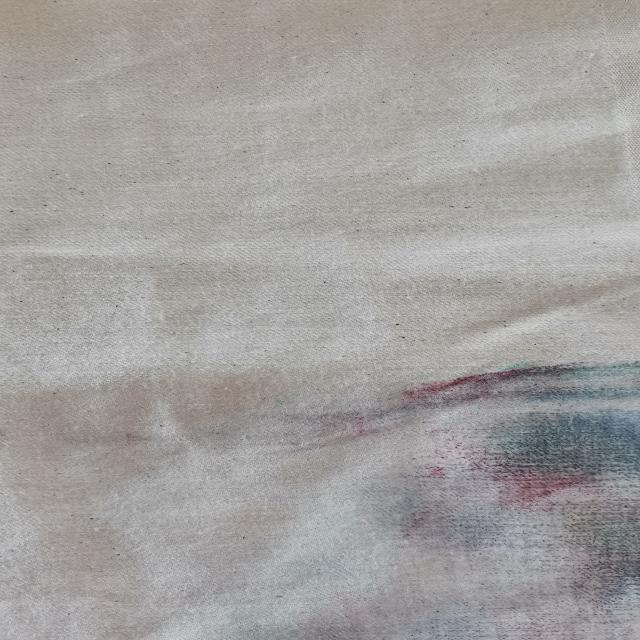taaaches: (260, 361, 640, 640)
